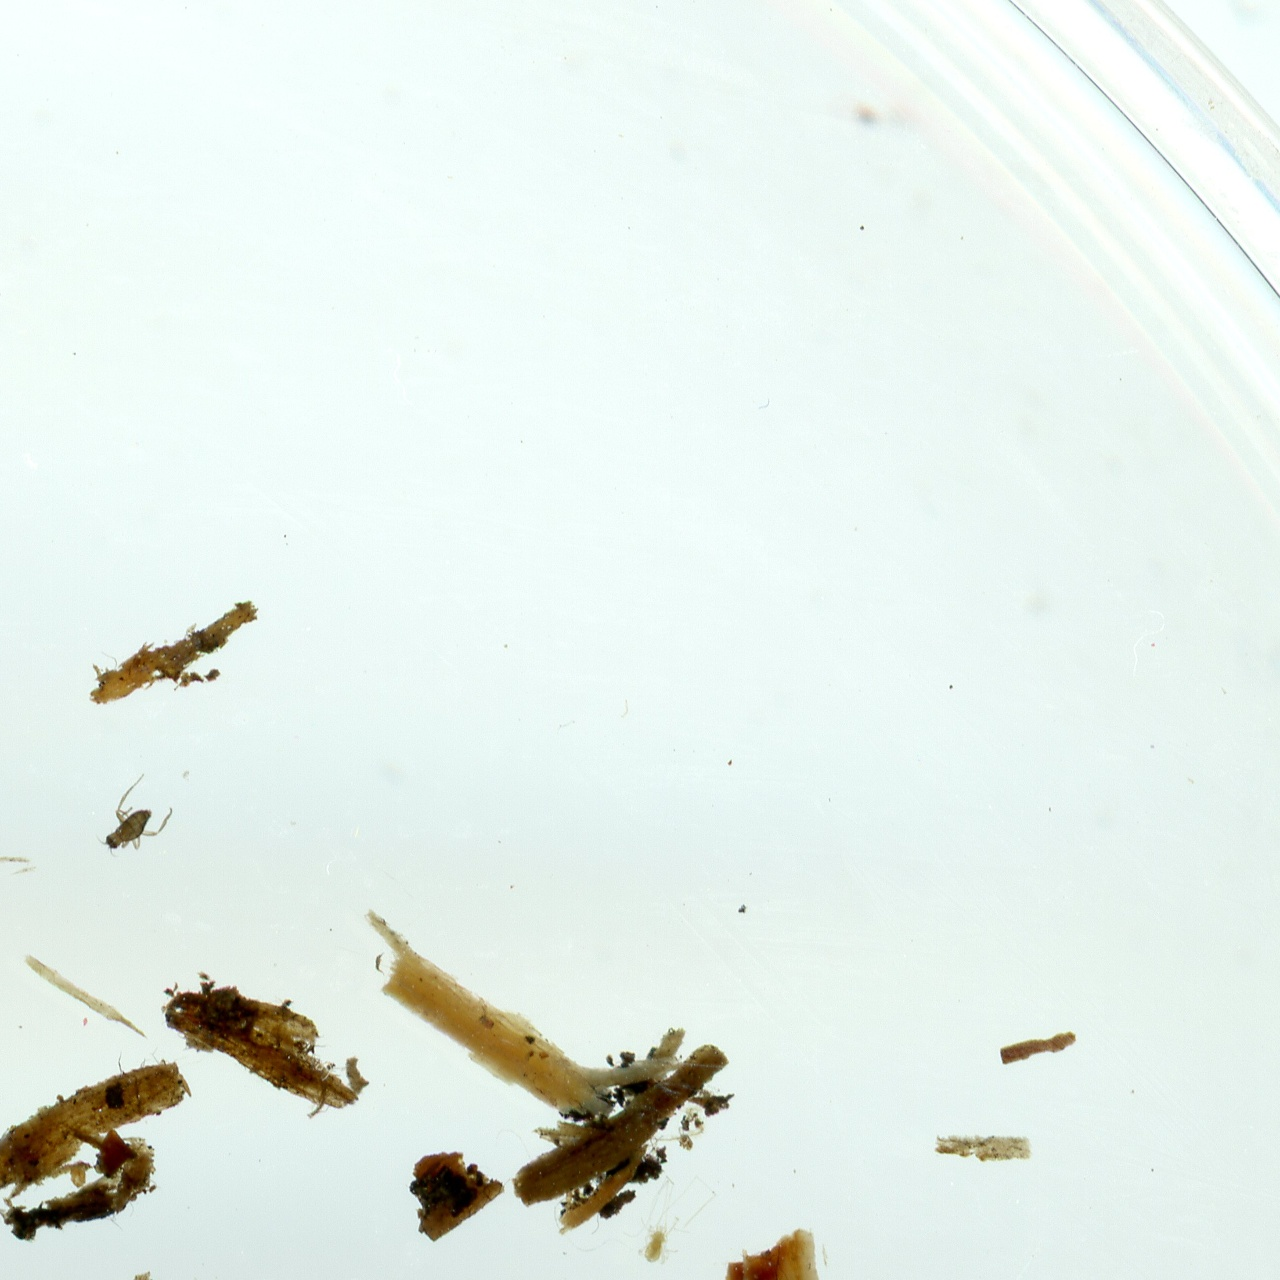arthropod: (81, 765, 190, 877), (621, 1171, 722, 1273)
